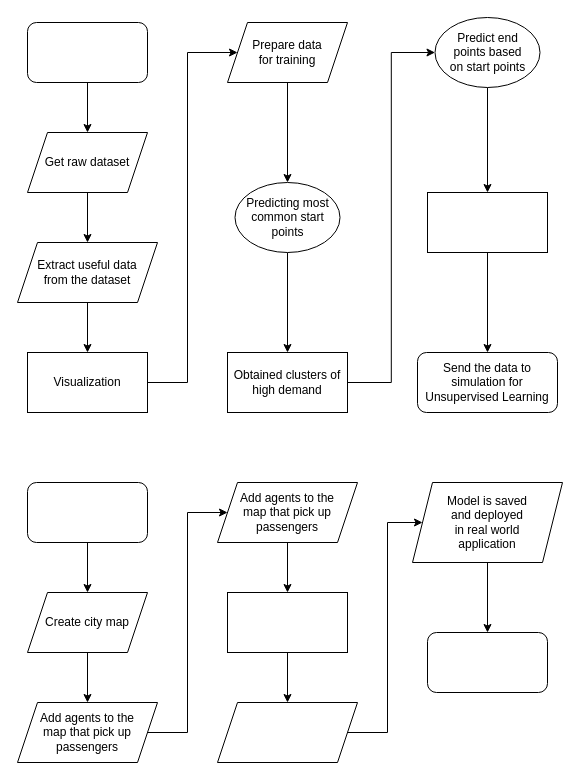
Some shapes in this 580 by 780 pixel diagram are drawn without their labels. Here are the shapes that lost their labels. From the top down, the centre of each, then its label:
point 87,52: Supervised Learning
point 487,222: Obtained start and end points of common clusters
point 87,512: Simulation
point 287,622: Passengers are added according to the data from the prediction model
point 487,662: Observations are noted into research paper
point 287,732: Agent learns from the simulation
